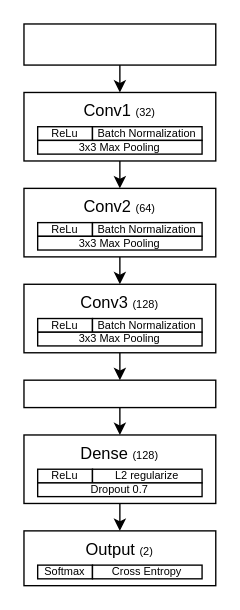
Some shapes in this 240 by 610 pixel diagram are drawn without their labels. Here are the shapes that lost their labels. From the top down, the centre of each, then its label:
At [119,44]: "Input 150x150".
At [119,393]: "Flatten".
